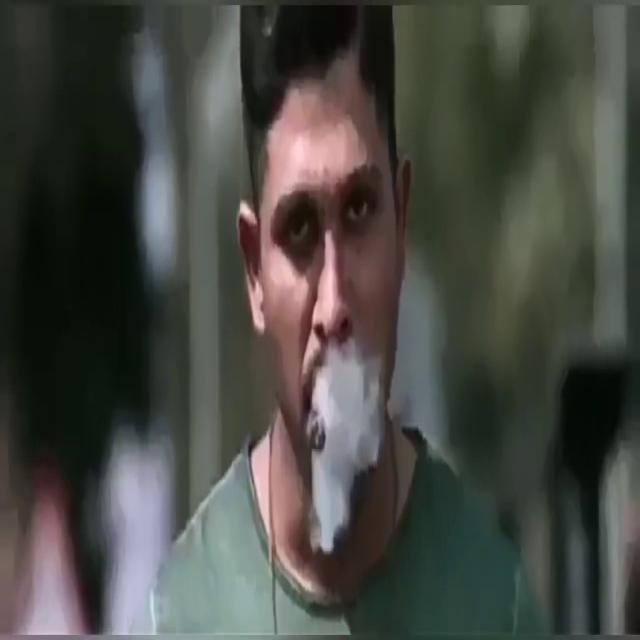smoking: (256, 156, 409, 543)
